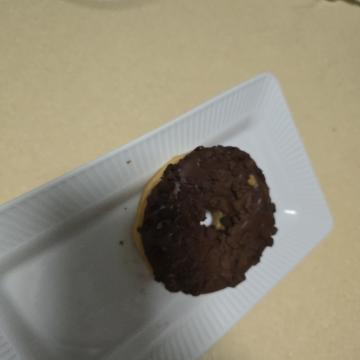doughnut: (132, 70, 316, 238)
